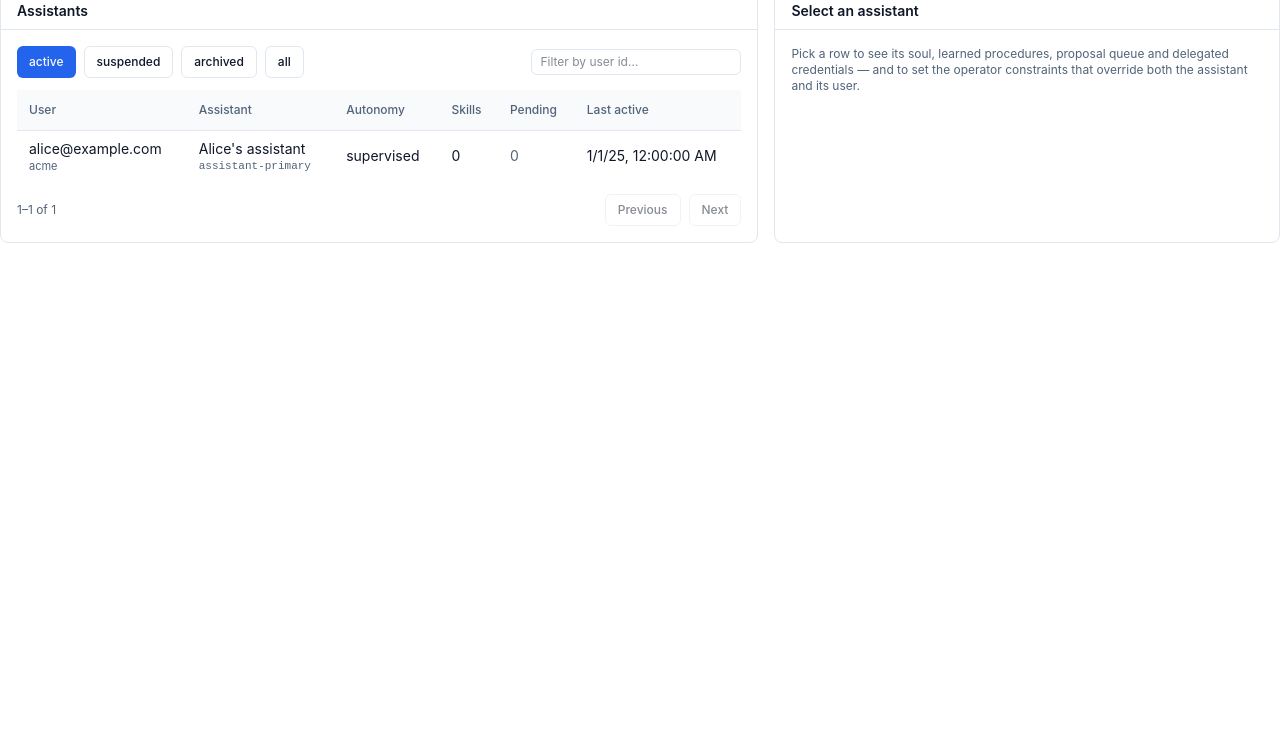
it: AssistantsPanel › per-assistant detail view shows a Revoke button for a usable delegation
Click the text "alice@example.com": (102, 148) 29,138 -> 175,158
(page scrolled)
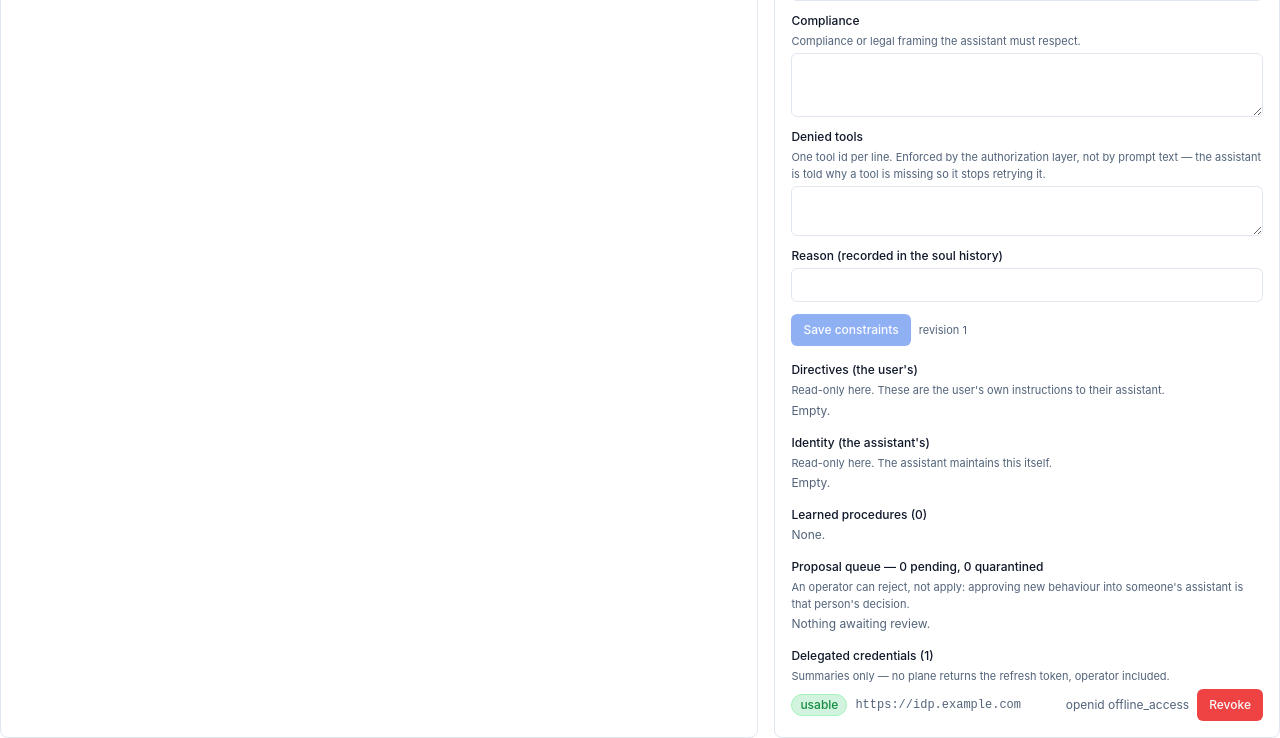
Check: the button with aria-label "Revoke delegation for issuer https://idp.example.com" is shown, box 1197,688 -> 1263,720
